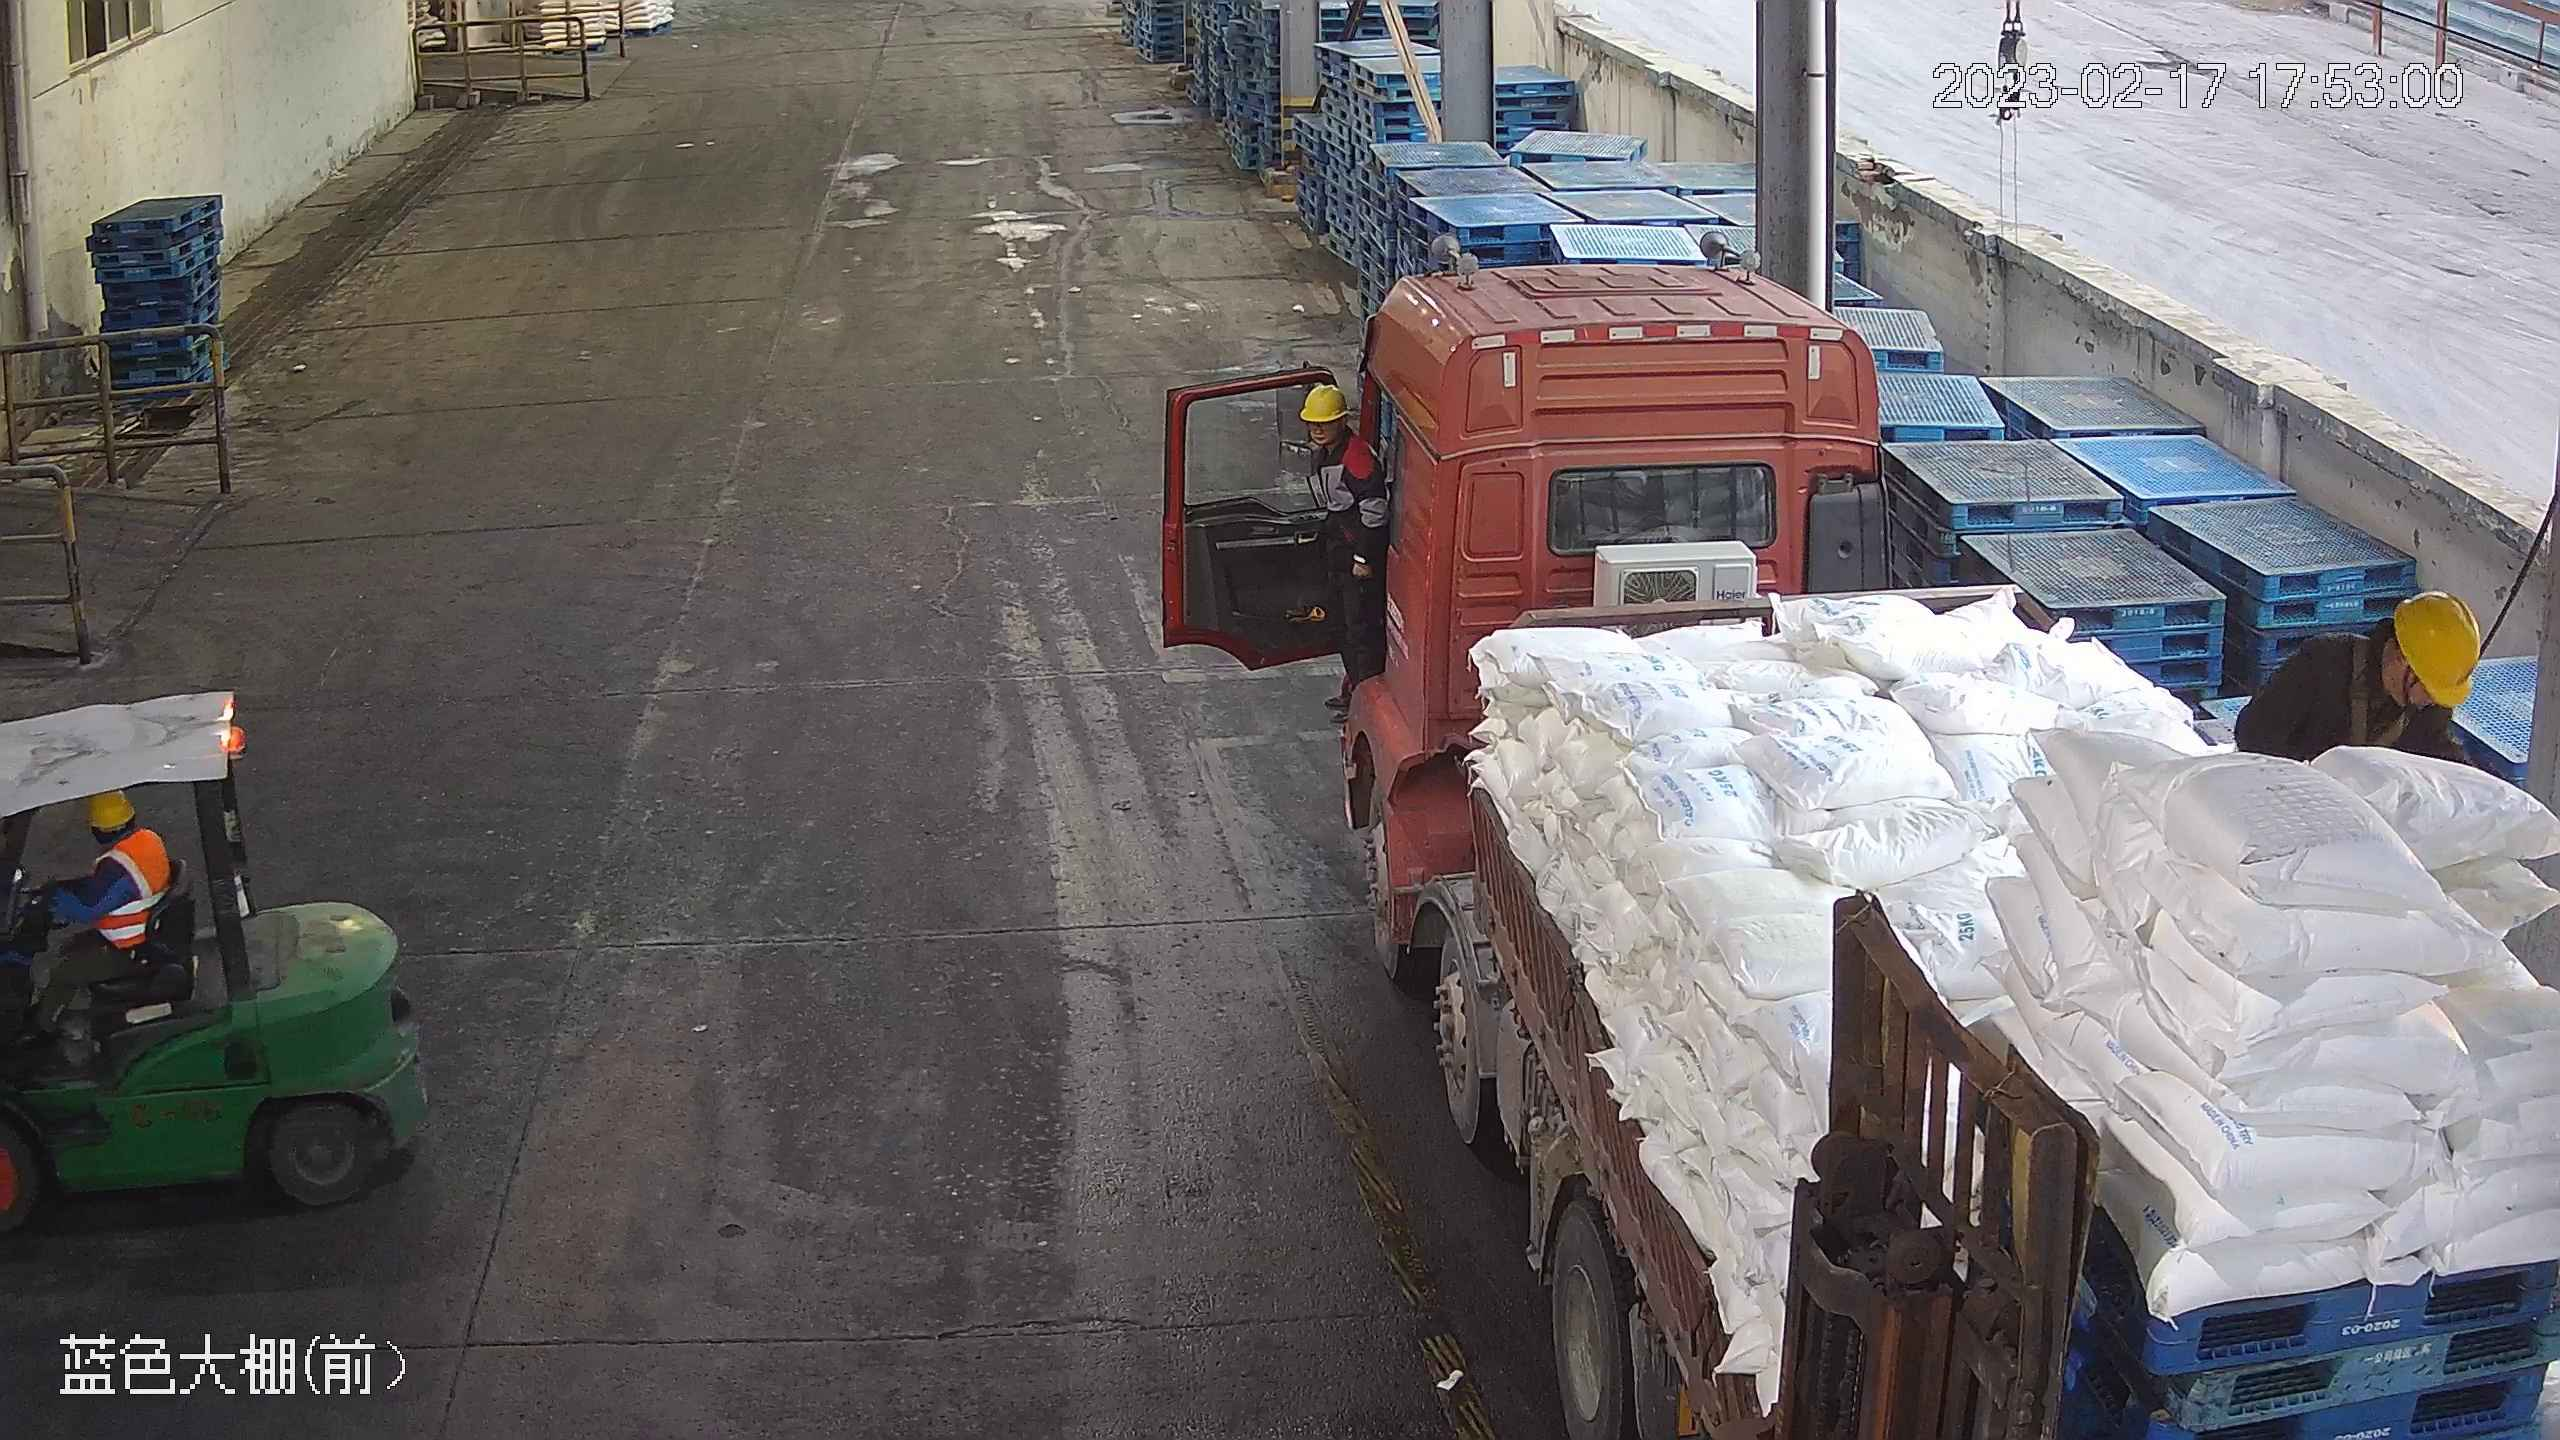belt: (2340, 641, 2402, 758)
head: (2272, 587, 2482, 740), (85, 791, 171, 892), (1297, 385, 1385, 481)
helmet: (2388, 588, 2484, 710), (1296, 385, 1350, 423), (87, 790, 133, 830)
people: (31, 788, 171, 1045), (1297, 384, 1390, 725)
truck: (1154, 230, 2560, 1440)
